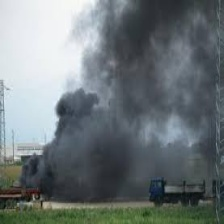smoke: (23, 2, 215, 190)
